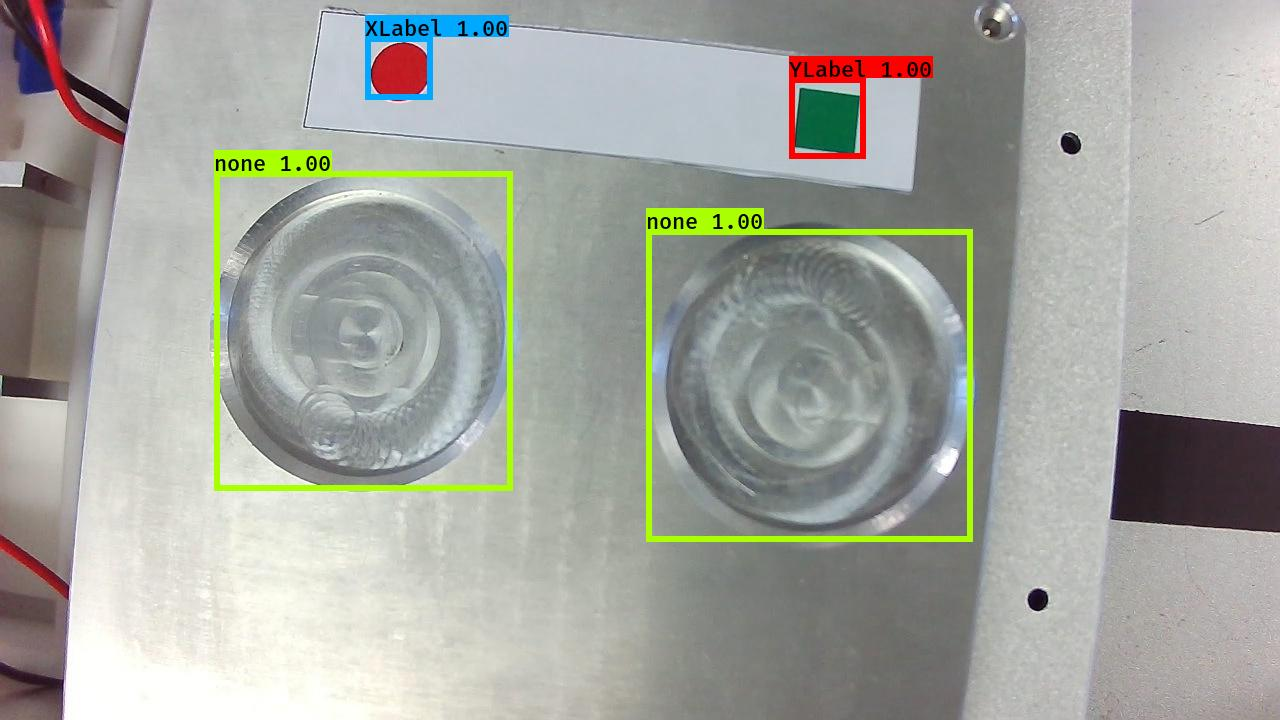XLabel: (366, 39, 433, 107)
YLabel: (786, 83, 866, 158)
none: (638, 215, 981, 558), (200, 166, 526, 499)
